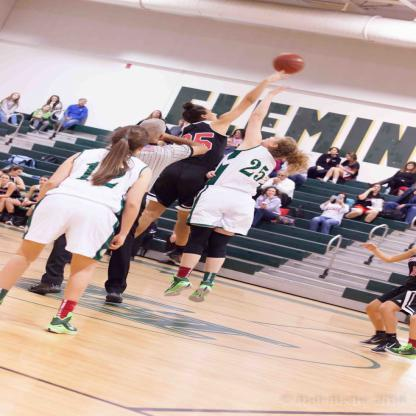Ball: (271, 52, 304, 75)
